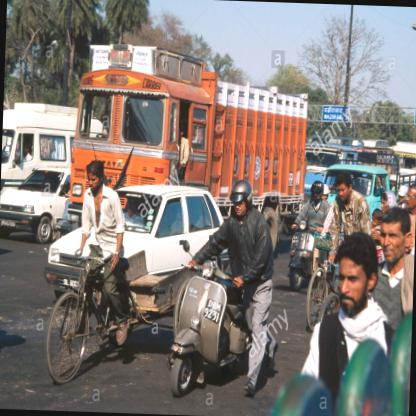bus: (0, 103, 111, 220)
motorcycle: (171, 177, 278, 400), (288, 182, 334, 290)
truck: (66, 43, 309, 256), (319, 162, 415, 233)
